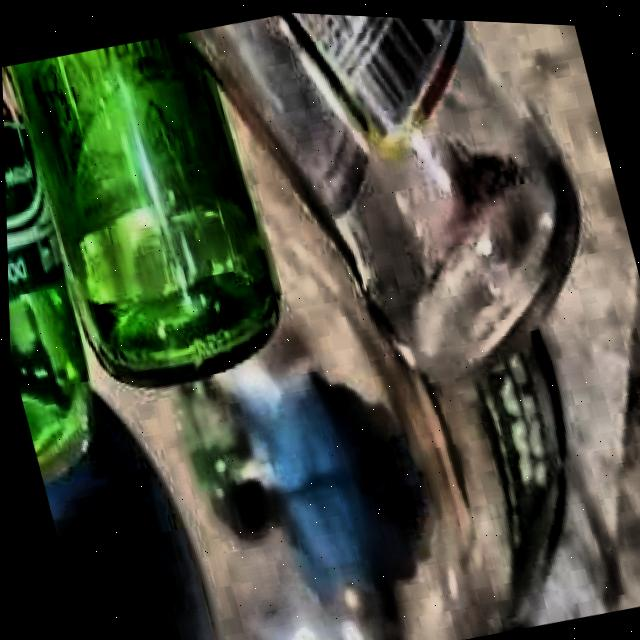glass: (189, 10, 576, 369), (2, 29, 276, 480)
